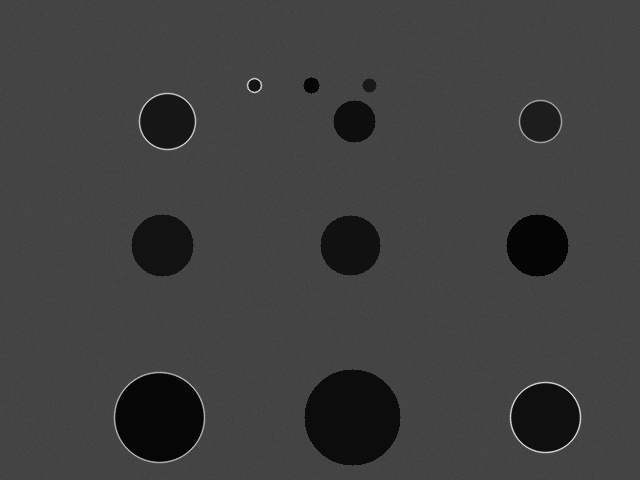hole: (304, 369, 400, 465), (114, 372, 204, 462), (510, 382, 580, 452), (131, 214, 193, 276), (506, 214, 568, 276), (320, 215, 380, 275), (139, 93, 195, 149), (333, 100, 375, 142), (519, 100, 561, 142), (303, 77, 319, 93), (247, 78, 261, 92), (362, 78, 376, 92)
